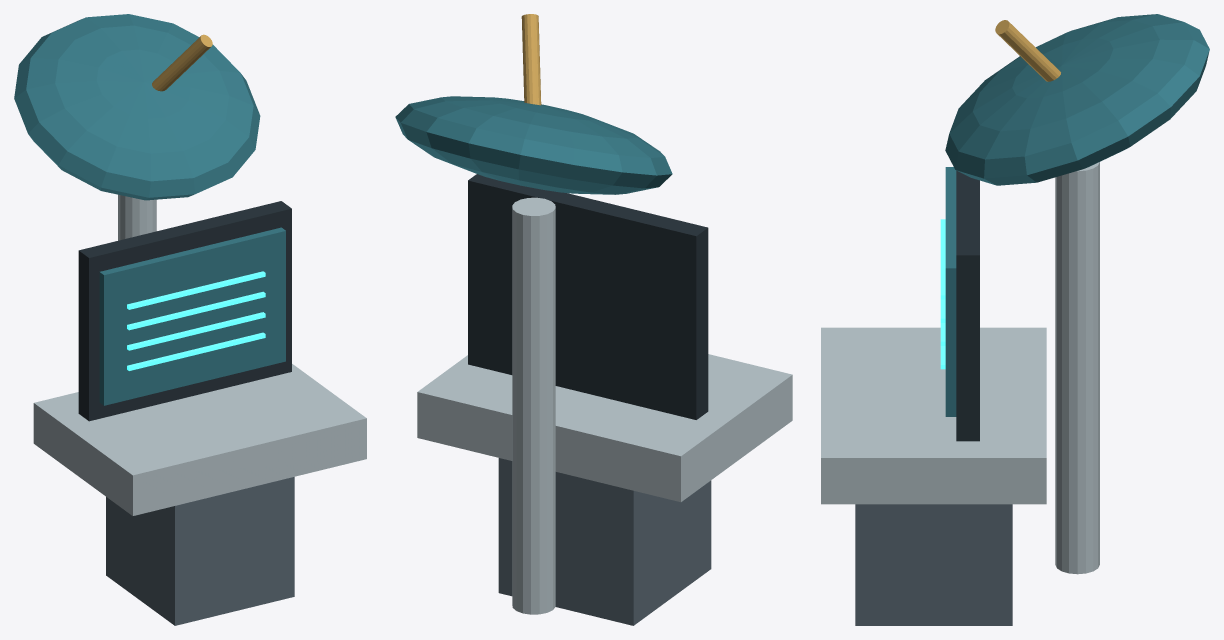
The model's file is orbital-control.glb.
3 views of the same model, side by side, from view 1: azimuth 30°, elevation 25°; view 2: azimuth 150°, elevation 25°; view 3: azimuth 270°, elevation 25° (orthographic). The views are drawn at different scales.
Parts seen in each view (by area): view 1: orbital command dish, lab desk, glowing status panel, desk pedestal, scientific monitor, dish mast, dish feed, telemetry line.001, telemetry line.002, telemetry line.003, telemetry line; view 2: scientific monitor, lab desk, desk pedestal, orbital command dish, dish mast, dish feed; view 3: lab desk, orbital command dish, desk pedestal, dish mast, scientific monitor, glowing status panel, dish feed.
Part boxes in pixels (left/top/right/bottom): orbital command dish: left=14, top=14, right=260, bottom=200; lab desk: left=33, top=364, right=366, bottom=515; glowing status panel: left=99, top=227, right=285, bottom=405; desk pedestal: left=106, top=477, right=294, bottom=625; scientific monitor: left=78, top=201, right=291, bottom=421; dish mast: left=118, top=194, right=156, bottom=240; dish feed: left=152, top=34, right=212, bottom=91; telemetry line.001: left=127, top=312, right=265, bottom=350; telemetry line.002: left=127, top=291, right=265, bottom=330; telemetry line.003: left=127, top=271, right=265, bottom=309; telemetry line: left=127, top=332, right=265, bottom=370; scientific monitor: left=468, top=174, right=708, bottom=419; lab desk: left=417, top=354, right=792, bottom=502; desk pedestal: left=498, top=458, right=711, bottom=625; orbital command dish: left=395, top=96, right=672, bottom=194; dish mast: left=512, top=197, right=555, bottom=614; dish feed: left=521, top=14, right=541, bottom=105; lab desk: left=821, top=327, right=1046, bottom=504; orbital command dish: left=945, top=14, right=1209, bottom=185; desk pedestal: left=855, top=504, right=1012, bottom=625; dish mast: left=1055, top=162, right=1099, bottom=574; scientific monitor: left=956, top=170, right=979, bottom=441; glowing status panel: left=945, top=167, right=956, bottom=416; dish feed: left=995, top=20, right=1060, bottom=81.
Bounding box in the file's own units: 0.9 × 1.91 × 1.14.
